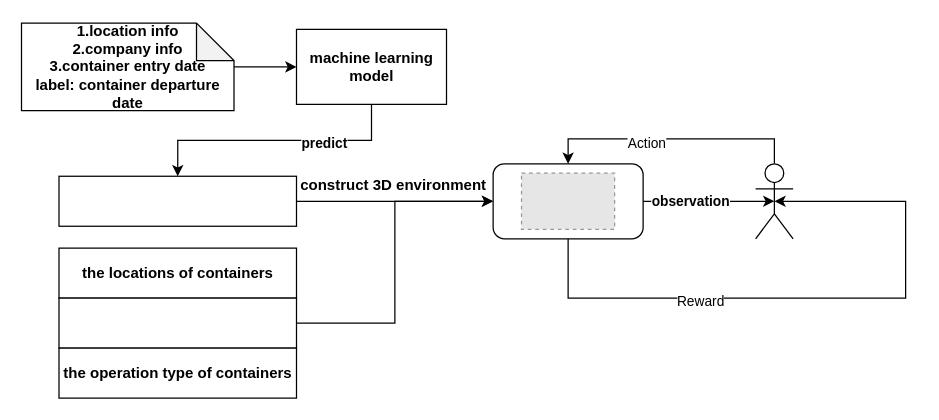
Image size: 939x420. Some labels were removed from this diagram. Grey dashed boxes stand in for pictures. Here are the shapes that lost their labels. From the top down, the box of each, then its label:
(58, 175, 296, 226): the predicted departure date of containers
(754, 162, 793, 239): DRL Agent
(58, 297, 296, 348): the business status of containers
